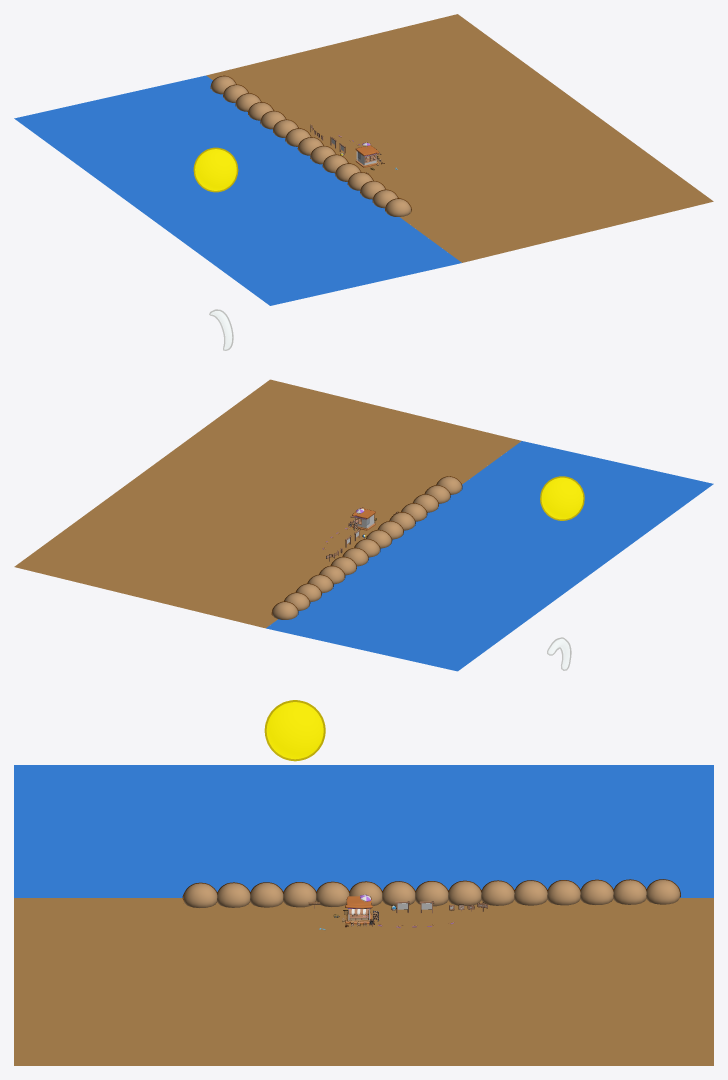
Rendered from Capybara_Cafe.glb.
3 views of the same model, one above another, from view 1: azimuth 30°, elevation 25°; view 2: azimuth 150°, elevation 25°; view 3: azimuth 270°, elevation 25° (orthographic). The views are drawn at different scales.
Visible parts, largest first — view 1: Cozy_Cafe, Sun; view 2: Cozy_Cafe, Sun, Moon; view 3: Cozy_Cafe, Sun.
Part boxes in pixels (box(x1,y1,x2,y2)): Cozy_Cafe: box(14, 14, 713, 305); Sun: box(193, 147, 238, 192); Cozy_Cafe: box(14, 379, 713, 671); Sun: box(540, 476, 584, 520); Moon: box(547, 637, 571, 670); Cozy_Cafe: box(14, 765, 713, 1065); Sun: box(264, 700, 325, 761).
Size of the model in its own units: 128 by 54.62 by 128.
Materials: 85 (6 with a texture image).
